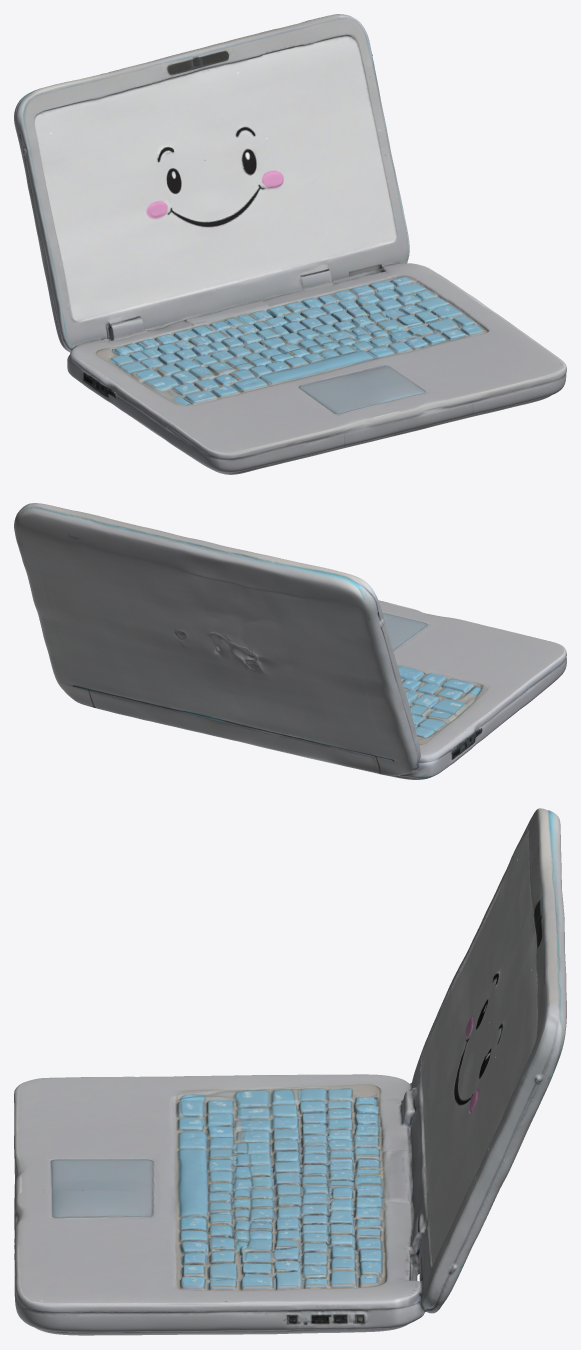
Rendered from laptop.glb.
3 renders of one model, top to bottom at view 1: azimuth 30°, elevation 25°; view 2: azimuth 150°, elevation 25°; view 3: azimuth 270°, elevation 25°, orthographic. The views are drawn at different scales.
Bounding box in the file's own units: 65528 × 42941 × 65560.
Materials: 1 (1 with a texture image).
